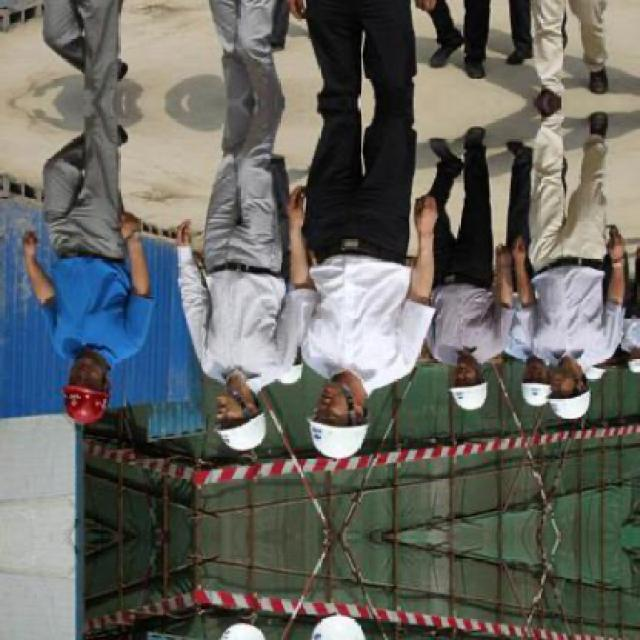con casco: (293, 332, 382, 462), (56, 311, 128, 439), (208, 352, 268, 474), (545, 333, 612, 425), (439, 334, 490, 414), (500, 353, 552, 405)
